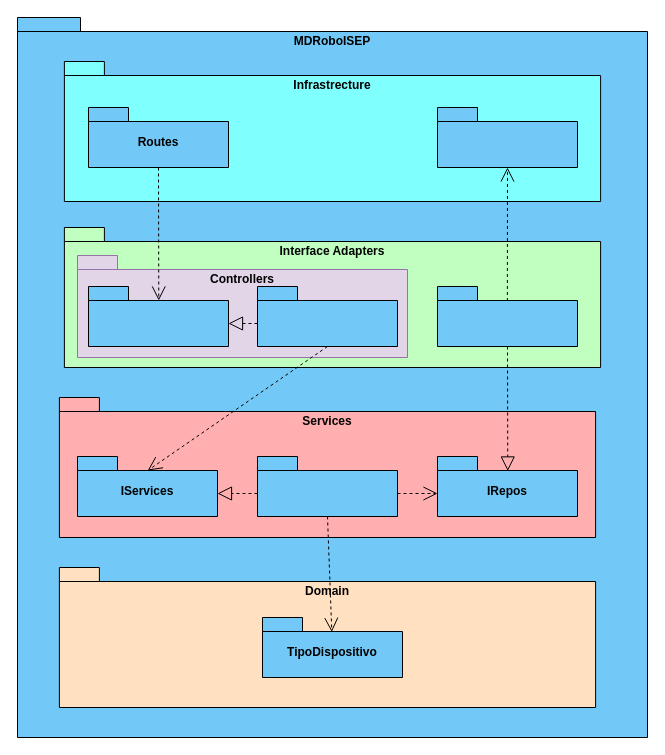
Image size: 665x755. Some labels were removed from this diagram. Each missing label, with the centre of its shape:
"IControllers" goes at point (158, 316).
"ImplControllers" goes at point (327, 316).
"ImplServices" goes at point (327, 486).
"Persistence" goes at point (507, 137).
"Repos" goes at point (507, 316).
